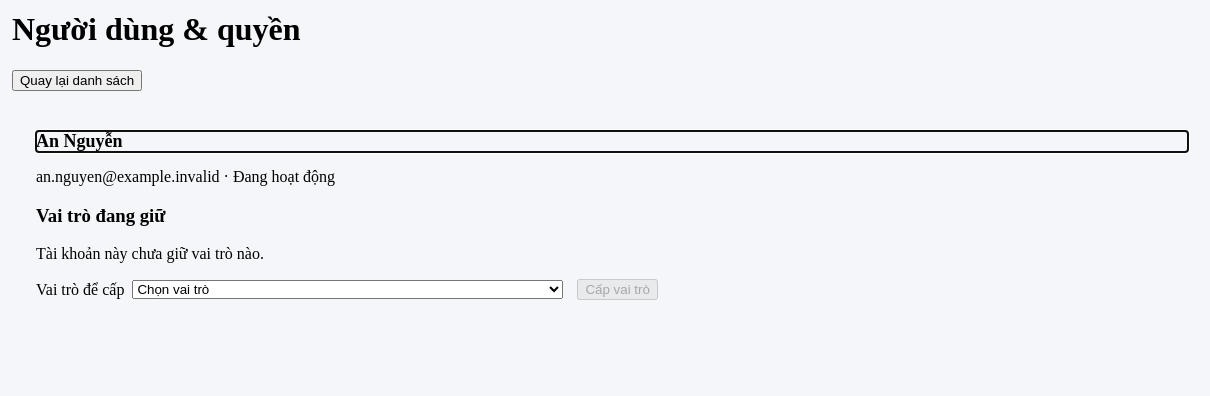
Scenario: searches accounts, grants and revokes a role, and shows the 409 reason
The image size is (1210, 396).
Earlier steps of the test are not shown.
Expected: the text "Tài khoản này chưa giữ vai trò nào." is shown, [36, 245, 264, 262]
Step 1. Select "Ứng dụng maintenance · role_maintenance_technician — Technician" in the dropdown labelled "Vai trò để cấp" → (348,290), box [132, 280, 563, 299]
Step 2. Click the button "Cấp vai trò" → (618,290), box [577, 279, 658, 300]
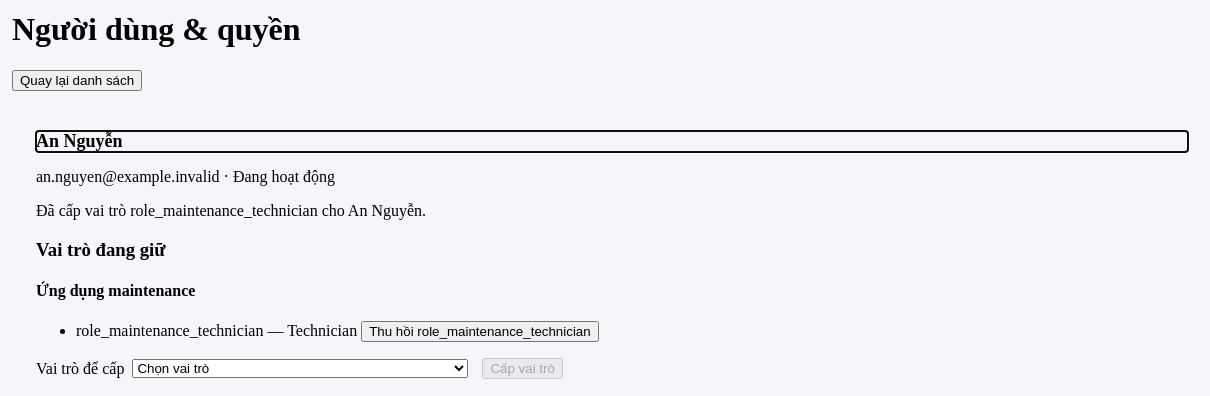
Now the list item shows "role_maintenance_technician — Technician", box [76, 321, 599, 342]
Now the message reads "Đã cấp vai trò role_maintenance_technician cho An Nguyễn.", box [36, 202, 426, 219]
Step 3. Click the button "Thu hồi role_maintenance_technician" → (480,332), box [361, 321, 599, 342]
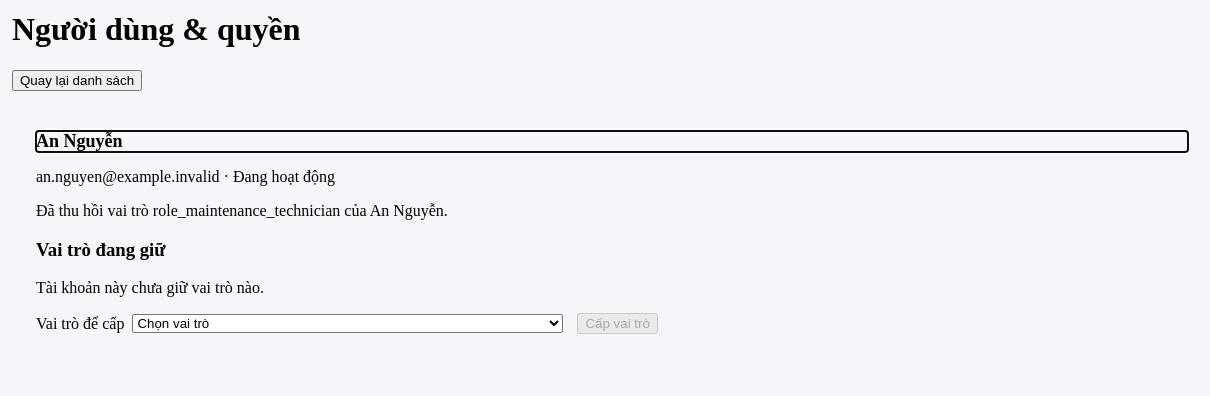
Now the heading "Ứng dụng maintenance" is gone
Step 4. Click the button "Quay lại danh sách" → (77,80), box [12, 70, 142, 91]
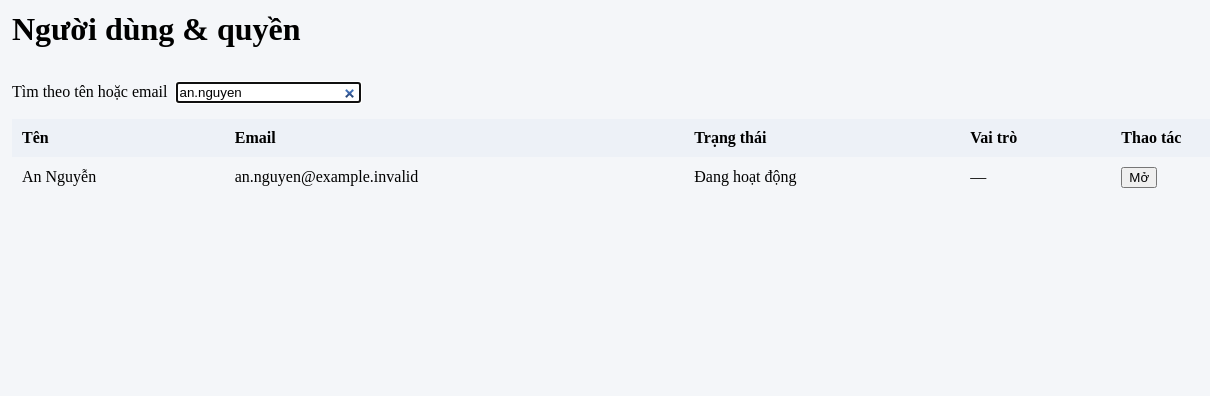
Step 5. Clear the search field labelled "Tìm theo tên hoặc email" → (268,92), box [176, 82, 360, 103]
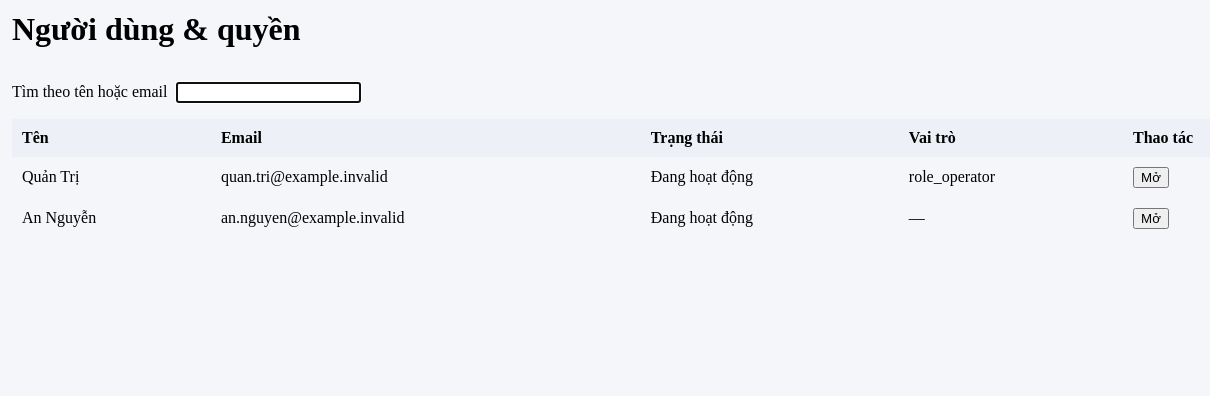
Step 6. Click the button with aria-label "Quản lý Quản Trị" → (1151,177), box [1133, 167, 1169, 188]
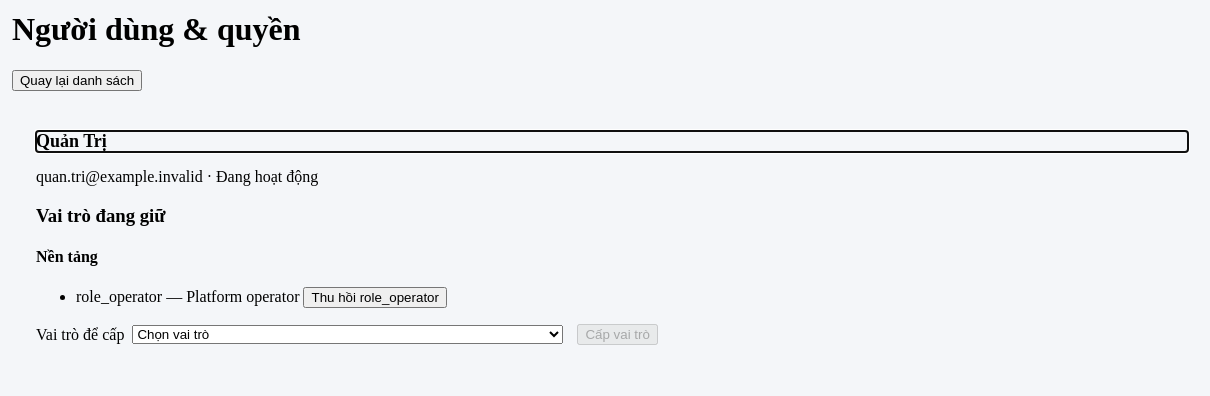
Now the list item shows "role_operator", box [76, 288, 162, 305]
Step 7. Click the button "Thu hồi role_operator" → (375,298), box [304, 287, 447, 308]
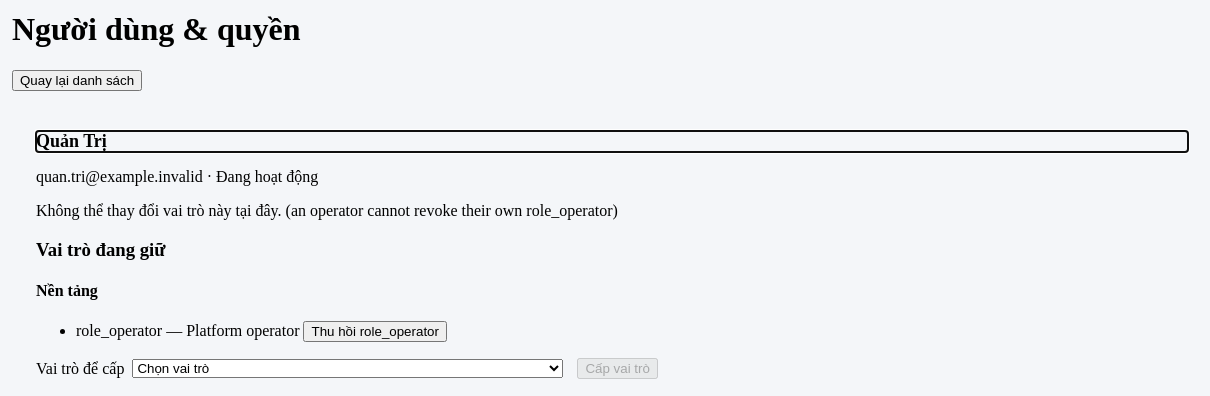
Now the message shows "Không thể thay đổi vai trò này tại đây. (an operator cannot revoke their own role_operator)", box [36, 202, 618, 219]
